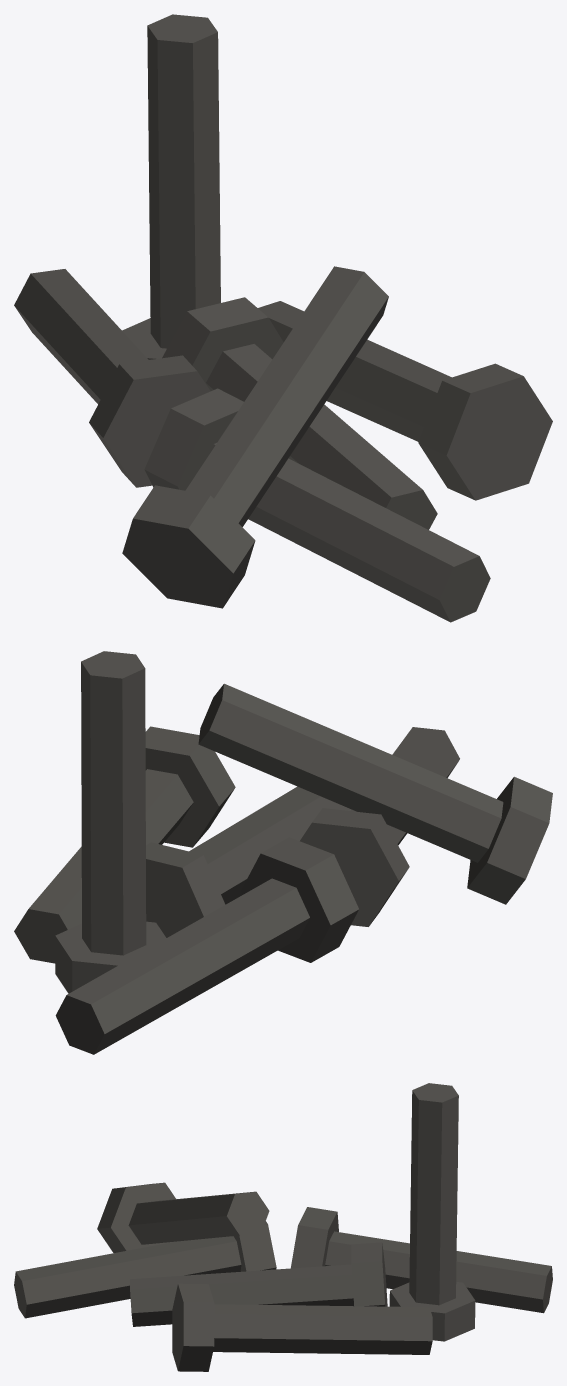
Rendered from SM_Screw.gltf.
3 renders of one model, top to bottom at view 1: azimuth 30°, elevation 25°; view 2: azimuth 150°, elevation 25°; view 3: azimuth 270°, elevation 25°, orthographic. The views are drawn at different scales.
Parts seen in each view (by area): view 1: SM_Screw; view 2: SM_Screw; view 3: SM_Screw.
Part boxes in pixels (x1,y1,x2,y2): SM_Screw: [14, 14, 552, 622]; SM_Screw: [14, 651, 552, 1054]; SM_Screw: [14, 1083, 552, 1371].
Size of the model in its own units: 0.1543 by 0.1204 by 0.2458.
1 material, 1 textured.
